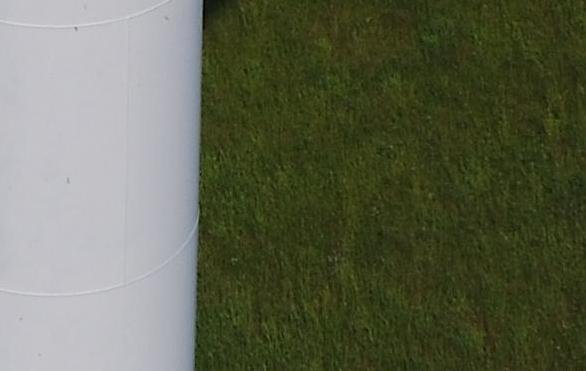damage: (65, 177, 69, 186), (74, 26, 79, 32)
